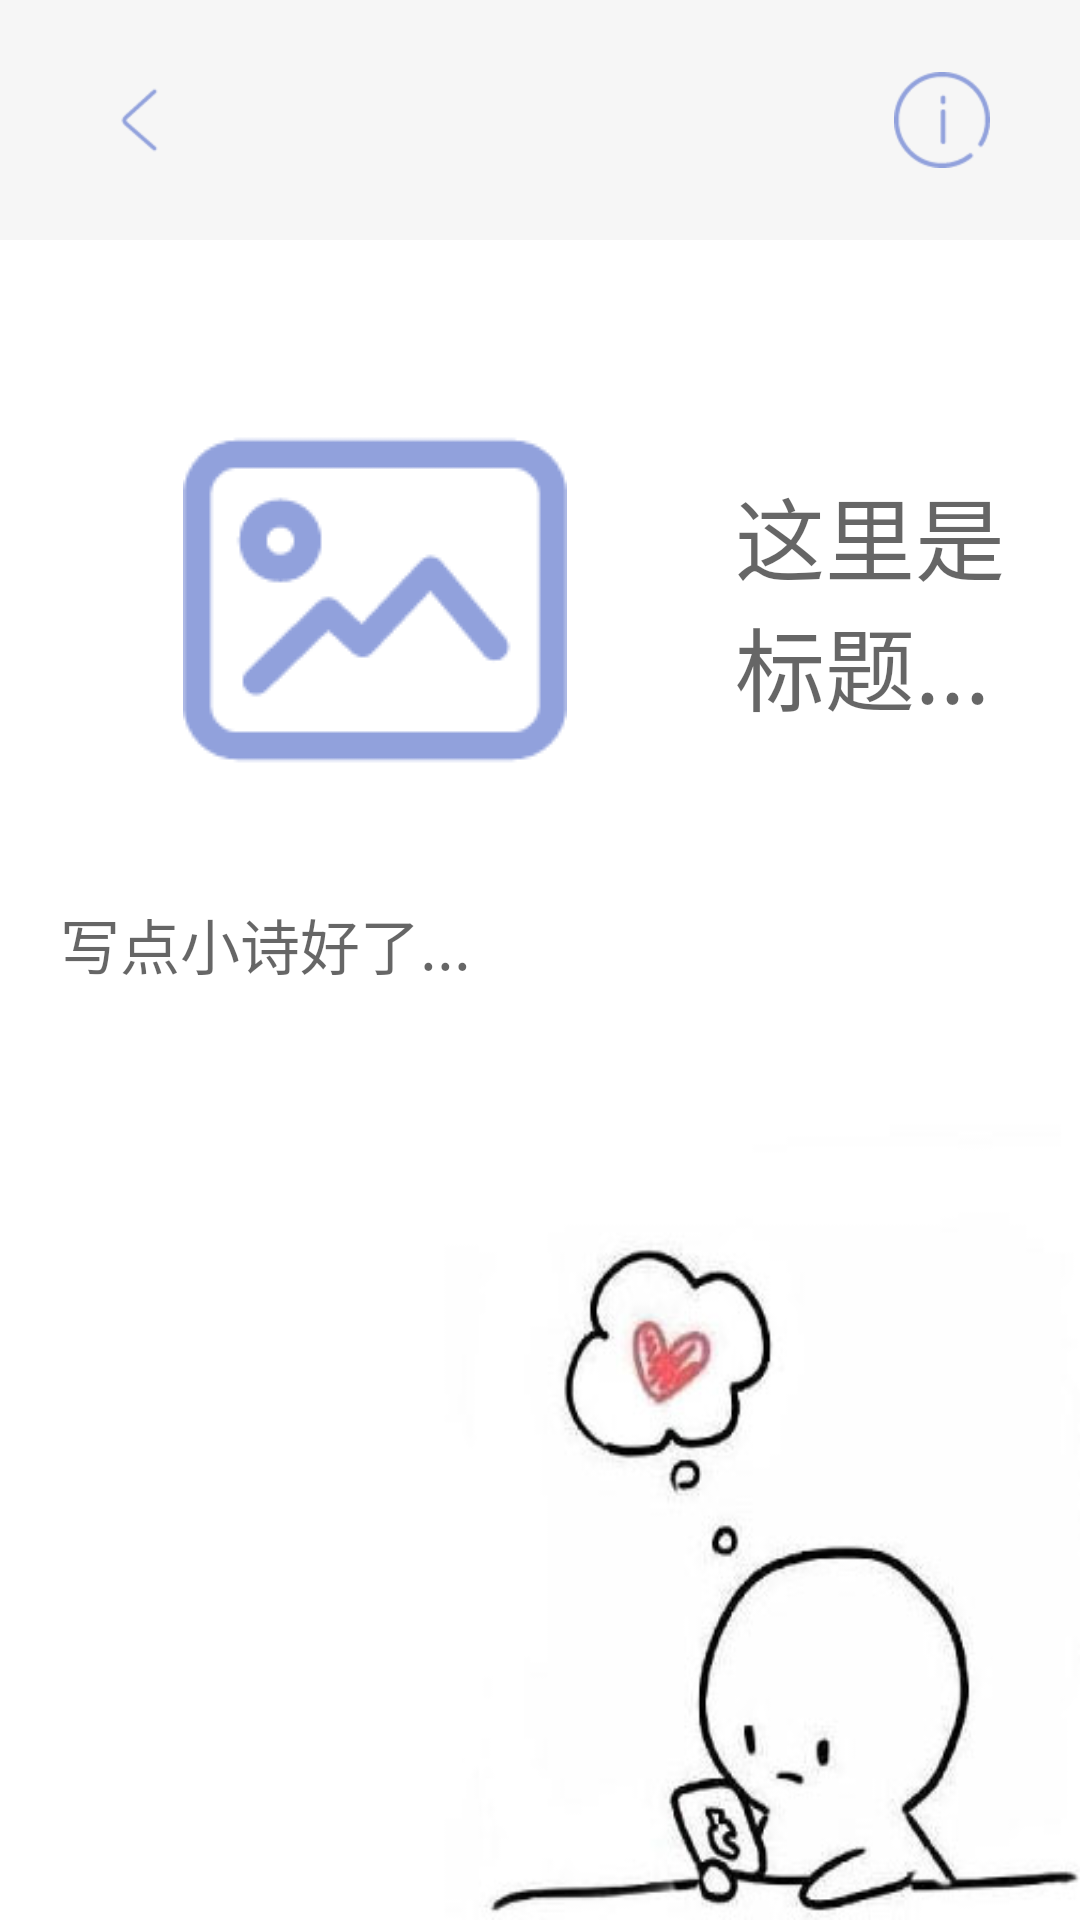

Icon bounding boxes for this 1080w x 1920h phone screenshot, format (x1, y1, x2, y2):
back: (122, 89, 157, 151)
information: (894, 72, 990, 168)
